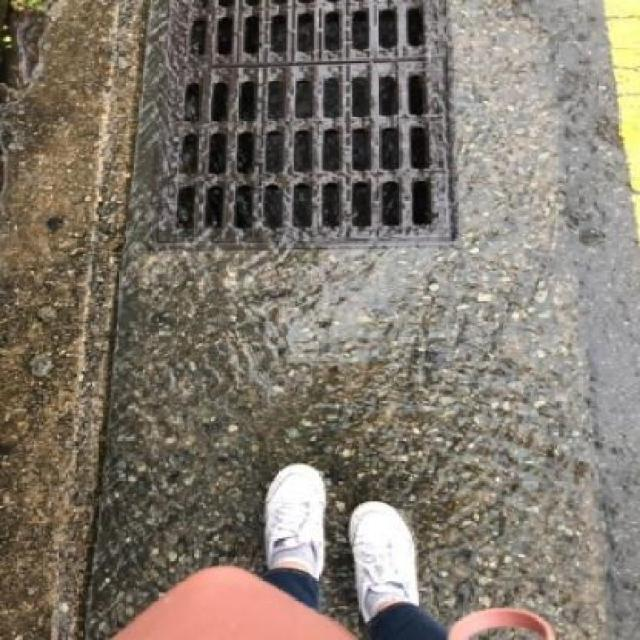Drain Hole: (119, 5, 479, 267)
